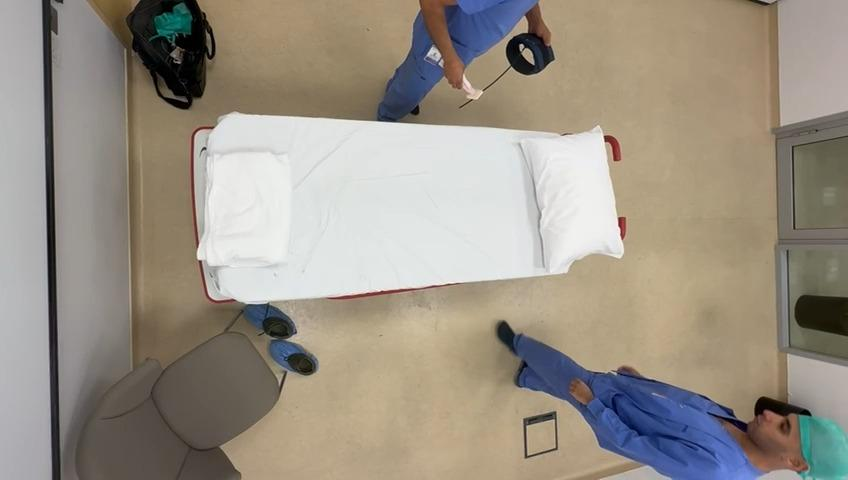bed: (192, 116, 626, 302)
prepstick: (462, 75, 484, 100)
tourniquet: (505, 33, 555, 75)
